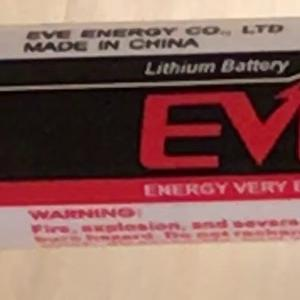keyword: (136, 54, 219, 84)
